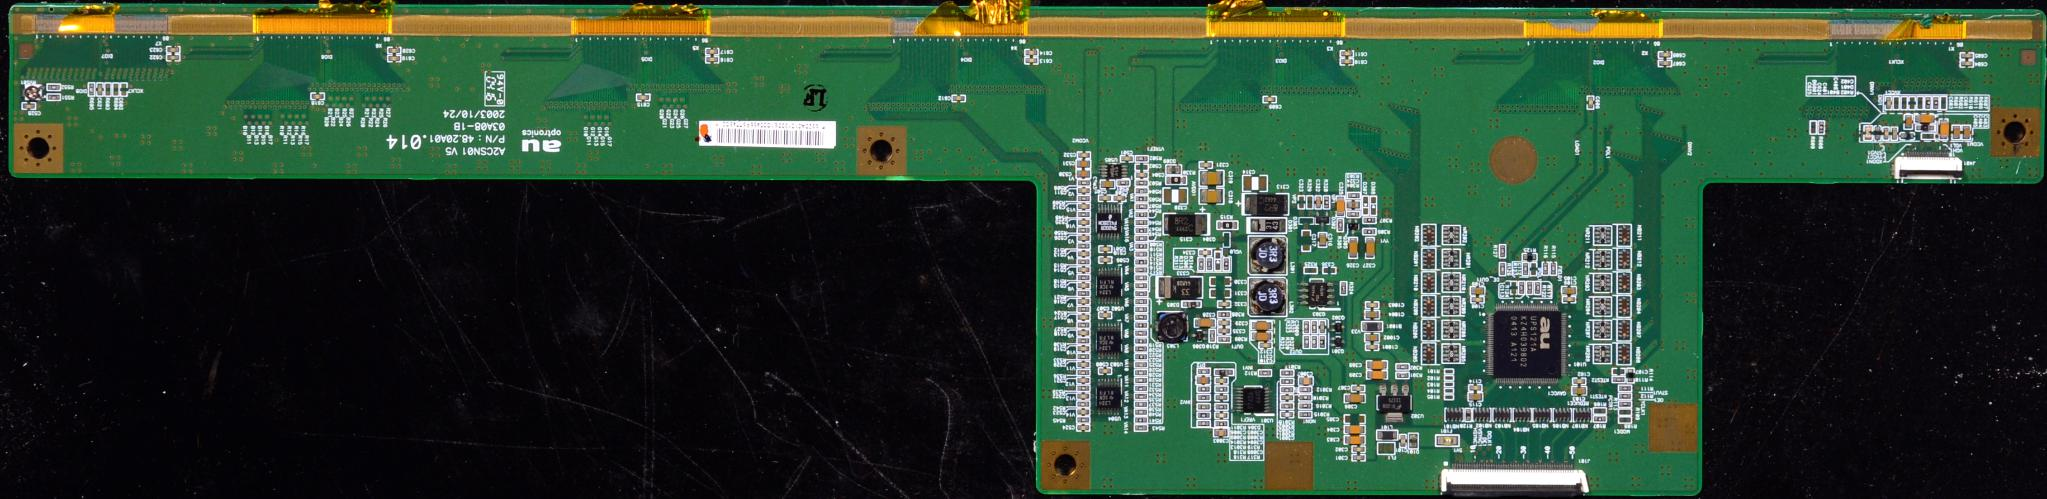Capacitor Jumper: (1903, 110, 1975, 140), (1172, 246, 1232, 272), (1162, 212, 1210, 240), (1242, 191, 1291, 216), (1162, 184, 1193, 208), (1343, 413, 1366, 443), (1197, 184, 1226, 204), (1198, 169, 1225, 185), (1572, 372, 1589, 396), (1467, 380, 1484, 404), (1367, 359, 1388, 378), (658, 95, 687, 108), (1244, 175, 1266, 191), (585, 114, 614, 125), (309, 90, 329, 106), (1341, 392, 1366, 404), (1518, 280, 1540, 293), (1209, 274, 1232, 286), (636, 89, 653, 105), (1363, 307, 1381, 320), (1347, 235, 1358, 257), (1366, 236, 1376, 259), (1211, 287, 1232, 298), (1217, 317, 1230, 333), (1351, 444, 1364, 460), (1611, 364, 1633, 374), (1316, 229, 1326, 247), (1251, 321, 1272, 330), (1303, 229, 1312, 248), (950, 93, 967, 103), (1076, 167, 1093, 178), (385, 55, 403, 64), (163, 52, 180, 61), (705, 55, 722, 64), (1961, 59, 1978, 68), (20, 101, 37, 110), (1076, 158, 1093, 167), (1296, 376, 1313, 385), (163, 43, 180, 52), (1252, 330, 1272, 338), (1322, 265, 1337, 276), (1883, 94, 1892, 110), (1076, 216, 1091, 225), (1198, 247, 1214, 256), (704, 46, 719, 55), (1926, 97, 1939, 107), (120, 78, 128, 95), (385, 44, 402, 52), (1364, 299, 1379, 308), (1364, 342, 1379, 351), (1338, 195, 1345, 214), (1076, 185, 1091, 193), (1022, 57, 1040, 64), (1077, 280, 1090, 289), (1218, 297, 1231, 306), (1279, 409, 1292, 418), (1022, 48, 1040, 55), (1509, 280, 1517, 294), (1076, 359, 1090, 367), (1132, 162, 1149, 169), (1076, 152, 1091, 158), (1078, 233, 1091, 240), (1076, 406, 1089, 414), (1214, 427, 1227, 435), (1350, 384, 1364, 391), (97, 78, 102, 95), (1077, 248, 1090, 255), (1076, 264, 1089, 270), (1136, 171, 1148, 178), (1078, 201, 1090, 208), (1258, 341, 1270, 347), (1299, 193, 1304, 208), (1316, 195, 1321, 208), (1531, 264, 1538, 274), (1080, 297, 1090, 303), (1077, 312, 1087, 319), (1961, 52, 1974, 57), (1077, 345, 1089, 350), (1077, 378, 1089, 383), (1077, 393, 1089, 398), (1077, 330, 1087, 336)
Resistor Jumper: (1134, 334, 1148, 422), (1303, 319, 1328, 347), (1617, 385, 1633, 419), (1892, 94, 1924, 110), (275, 110, 311, 124), (21, 80, 44, 98), (1134, 178, 1148, 209), (1444, 366, 1456, 400), (360, 95, 392, 107), (1134, 240, 1148, 266), (1811, 116, 1825, 136), (1593, 402, 1606, 422), (1136, 216, 1148, 236), (1544, 260, 1559, 274), (1217, 219, 1239, 229), (1164, 163, 1181, 174), (1612, 375, 1633, 383), (1521, 251, 1538, 260), (1302, 264, 1317, 273), (1397, 359, 1410, 370), (1397, 368, 1410, 379), (103, 77, 111, 94), (1497, 260, 1507, 274), (1215, 334, 1231, 342), (1338, 280, 1347, 293), (1218, 308, 1231, 317), (1208, 329, 1217, 342), (46, 82, 60, 90), (111, 80, 119, 94), (97, 78, 103, 95), (1522, 259, 1529, 276), (1363, 217, 1376, 225), (1336, 217, 1343, 230), (1360, 229, 1376, 235), (1078, 304, 1091, 312), (1281, 378, 1294, 385), (1298, 385, 1311, 393), (1298, 409, 1311, 417), (87, 80, 94, 94), (47, 93, 61, 99), (1258, 370, 1273, 376), (1076, 384, 1090, 391), (1279, 401, 1294, 408), (1497, 243, 1505, 255), (1324, 192, 1329, 209), (1077, 193, 1090, 200), (1077, 226, 1090, 233), (1279, 385, 1292, 392), (1076, 423, 1089, 430), (1074, 243, 1090, 248), (1941, 95, 1946, 108), (1076, 180, 1089, 185), (1305, 195, 1311, 208), (1076, 259, 1089, 264), (1077, 290, 1090, 295), (1077, 321, 1087, 328), (1300, 394, 1313, 400), (1077, 353, 1087, 358), (1077, 368, 1087, 374), (1078, 417, 1089, 422), (1077, 212, 1090, 216), (1076, 274, 1089, 278), (1077, 402, 1090, 406), (1077, 338, 1087, 342)
